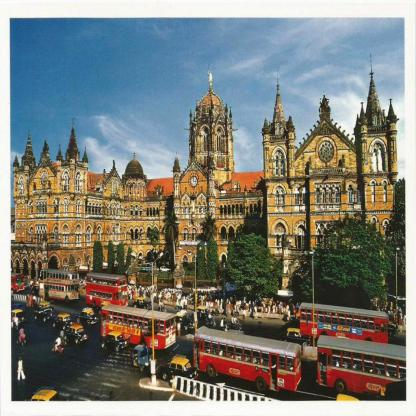Bus: (192, 326, 302, 398), (315, 335, 406, 395), (298, 300, 391, 341), (100, 302, 175, 352), (37, 268, 82, 304), (86, 272, 130, 308), (10, 272, 27, 294)
